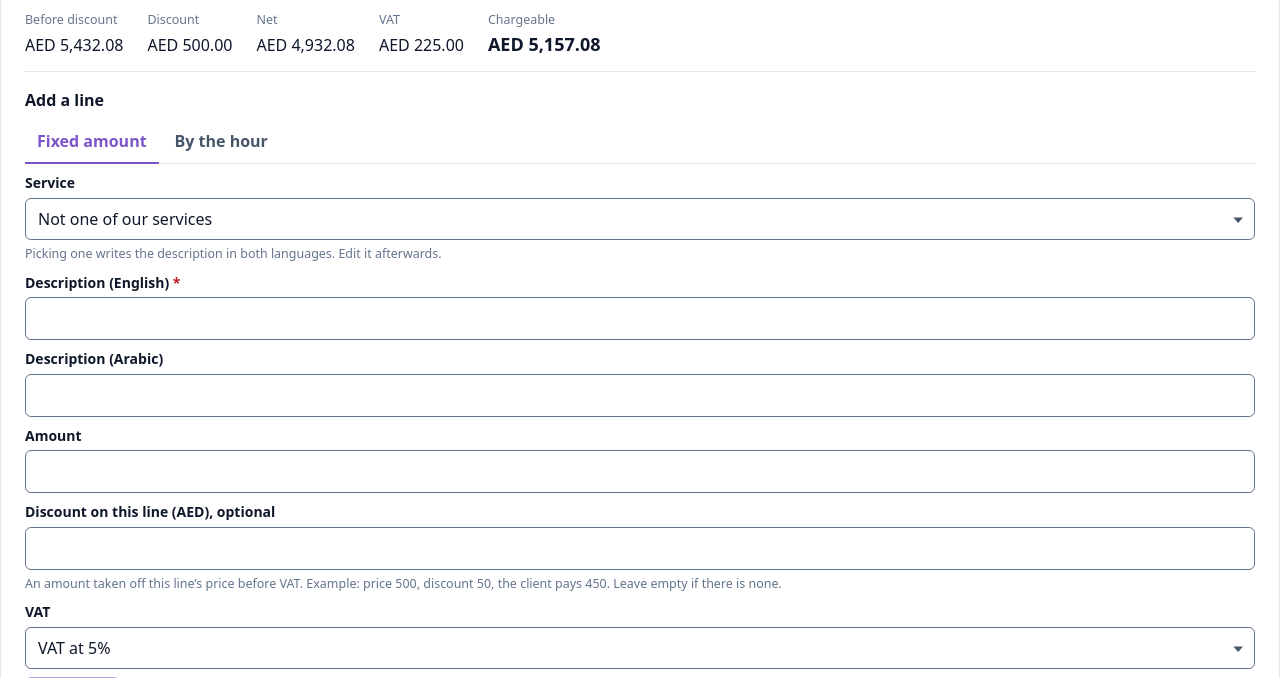
while it is a draft › will not add a line with no description or no price
The image size is (1280, 678).
(page scrolled)
Expected: the field labelled "Amount" is shown, [25, 450, 1255, 493]
Type "Bookkeeping" into the field labelled "Description (English)". click: (640, 319)
box: [25, 297, 1255, 340]
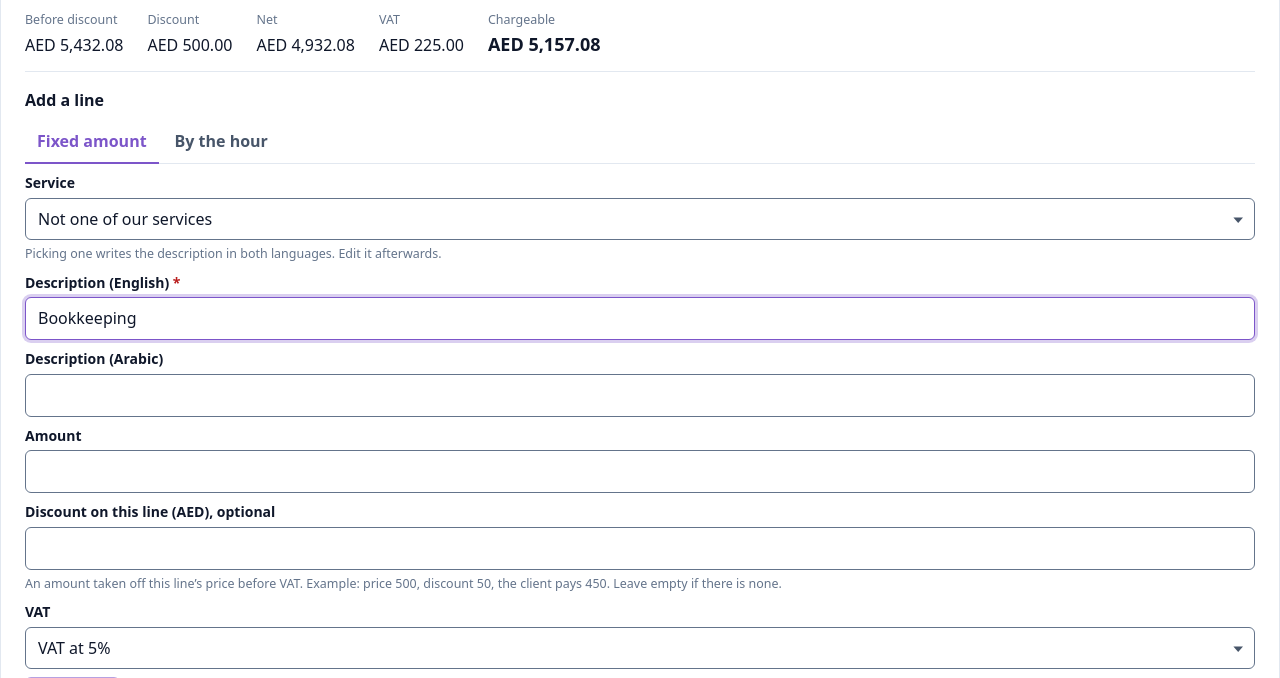
Type "100" into the field labelled "Amount". click: (640, 472)
box: [25, 450, 1255, 493]
(page scrolled)
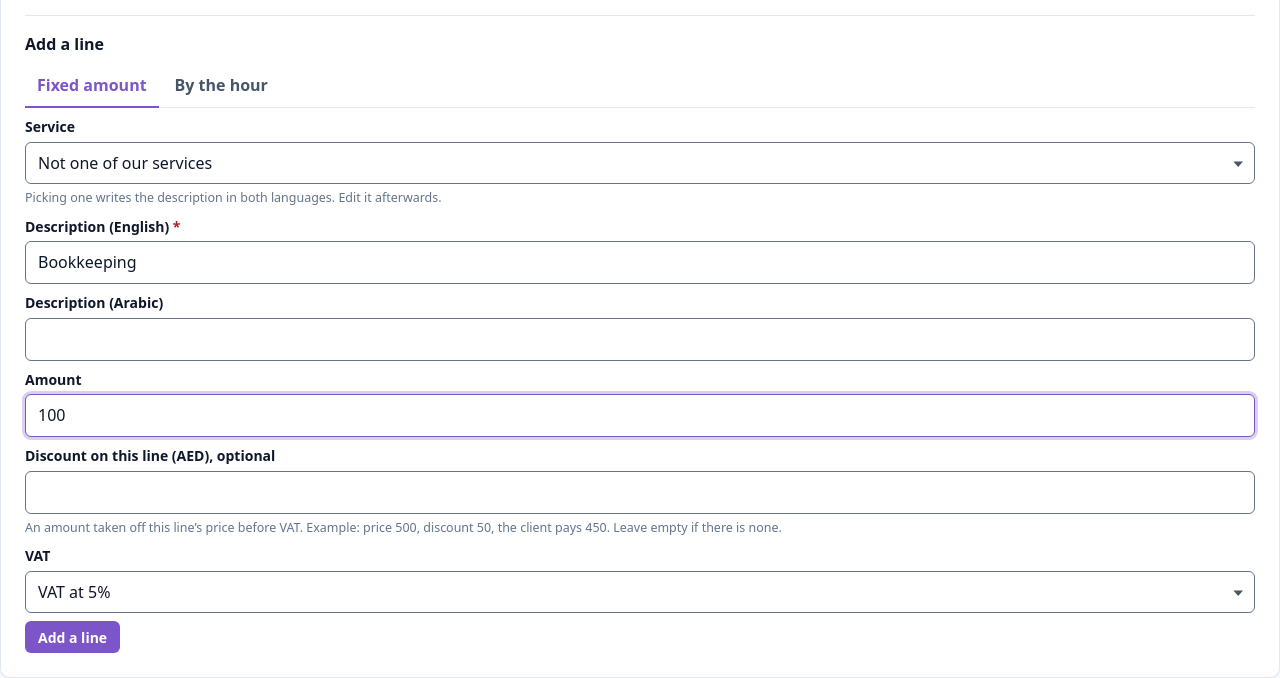
Expected: the button "Add a line" is enabled, [25, 622, 120, 654]
